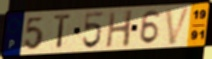5: (81, 10, 105, 50), (23, 16, 46, 51)
6: (138, 9, 162, 46)
H: (104, 9, 135, 49)
T: (52, 12, 73, 51)
V: (164, 5, 193, 46)
